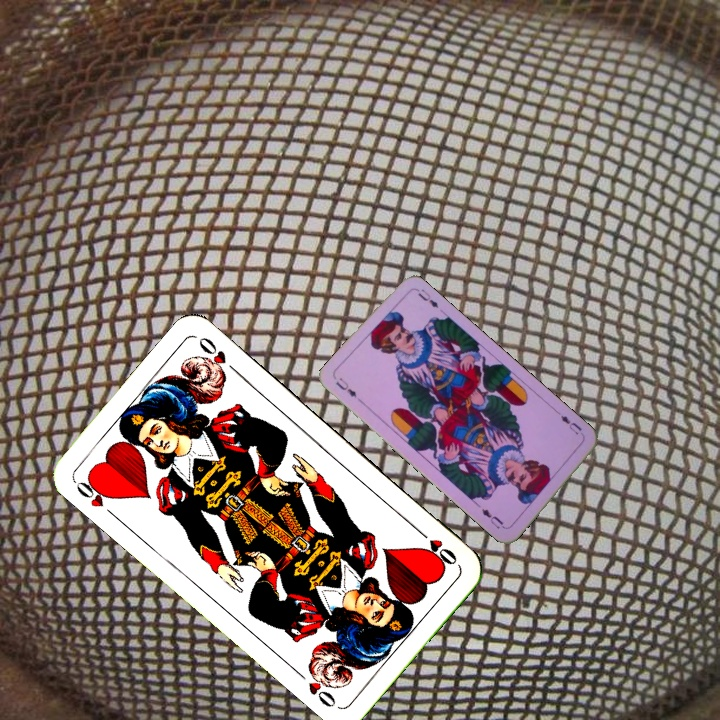EU: (331, 374, 365, 405), (553, 408, 584, 437)
HO: (70, 472, 119, 521), (412, 524, 460, 568)
